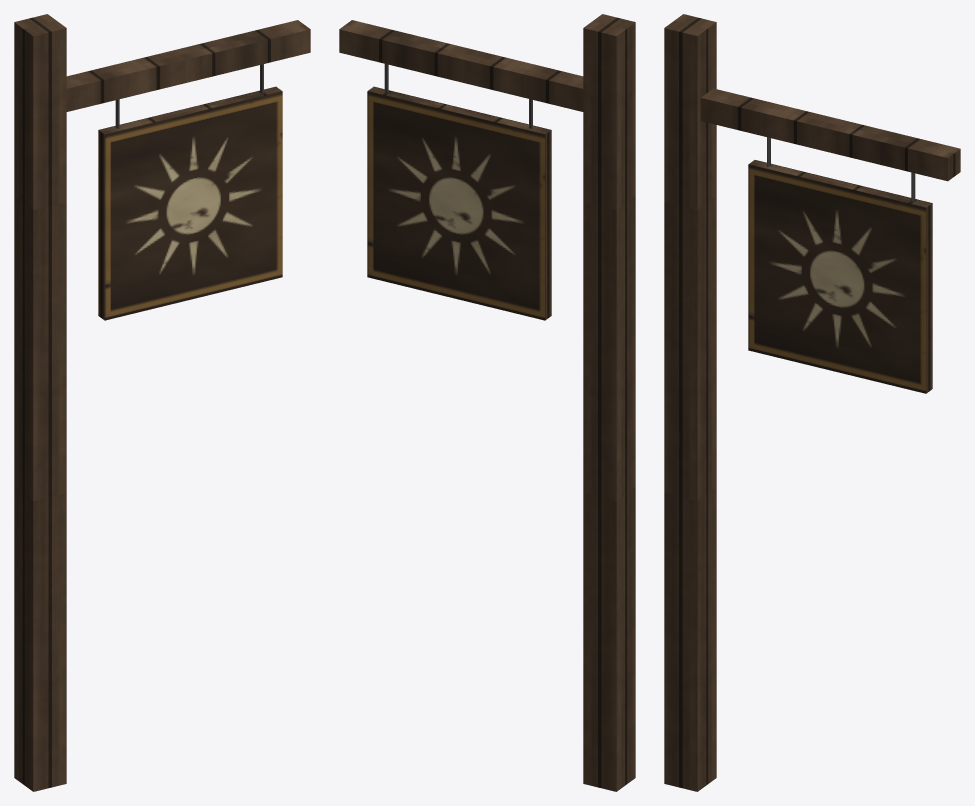
Rendered from Sign_Service_temple_LOD2.gltf.
The picture shows the model from 3 angles, left to right: view 1: azimuth 30°, elevation 25°; view 2: azimuth 150°, elevation 25°; view 3: azimuth 330°, elevation 25°; orthographic projection.
Visible parts, largest first — view 1: Sign_Service_temple_LOD2; view 2: Sign_Service_temple_LOD2; view 3: Sign_Service_temple_LOD2.
Boxes of the visible parts, left/top/right/bottom form: Sign_Service_temple_LOD2: left=14, top=14, right=310, bottom=791; Sign_Service_temple_LOD2: left=339, top=14, right=635, bottom=791; Sign_Service_temple_LOD2: left=664, top=14, right=960, bottom=791.
Bounding box in the file's own units: 1.01 × 2.6 × 0.12.
3 materials, 3 textured.
